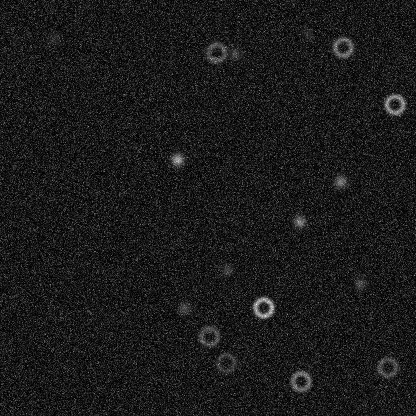Ring: (204, 40, 228, 64), (375, 355, 399, 379), (197, 324, 221, 348), (288, 369, 312, 393), (382, 92, 406, 116), (251, 295, 275, 319), (330, 35, 354, 59), (213, 350, 237, 374)
Spot: (176, 300, 192, 316), (291, 213, 307, 229), (226, 45, 242, 61), (45, 30, 61, 46), (352, 275, 368, 291), (169, 151, 185, 167), (332, 173, 348, 189), (219, 261, 235, 277), (299, 25, 315, 41)
